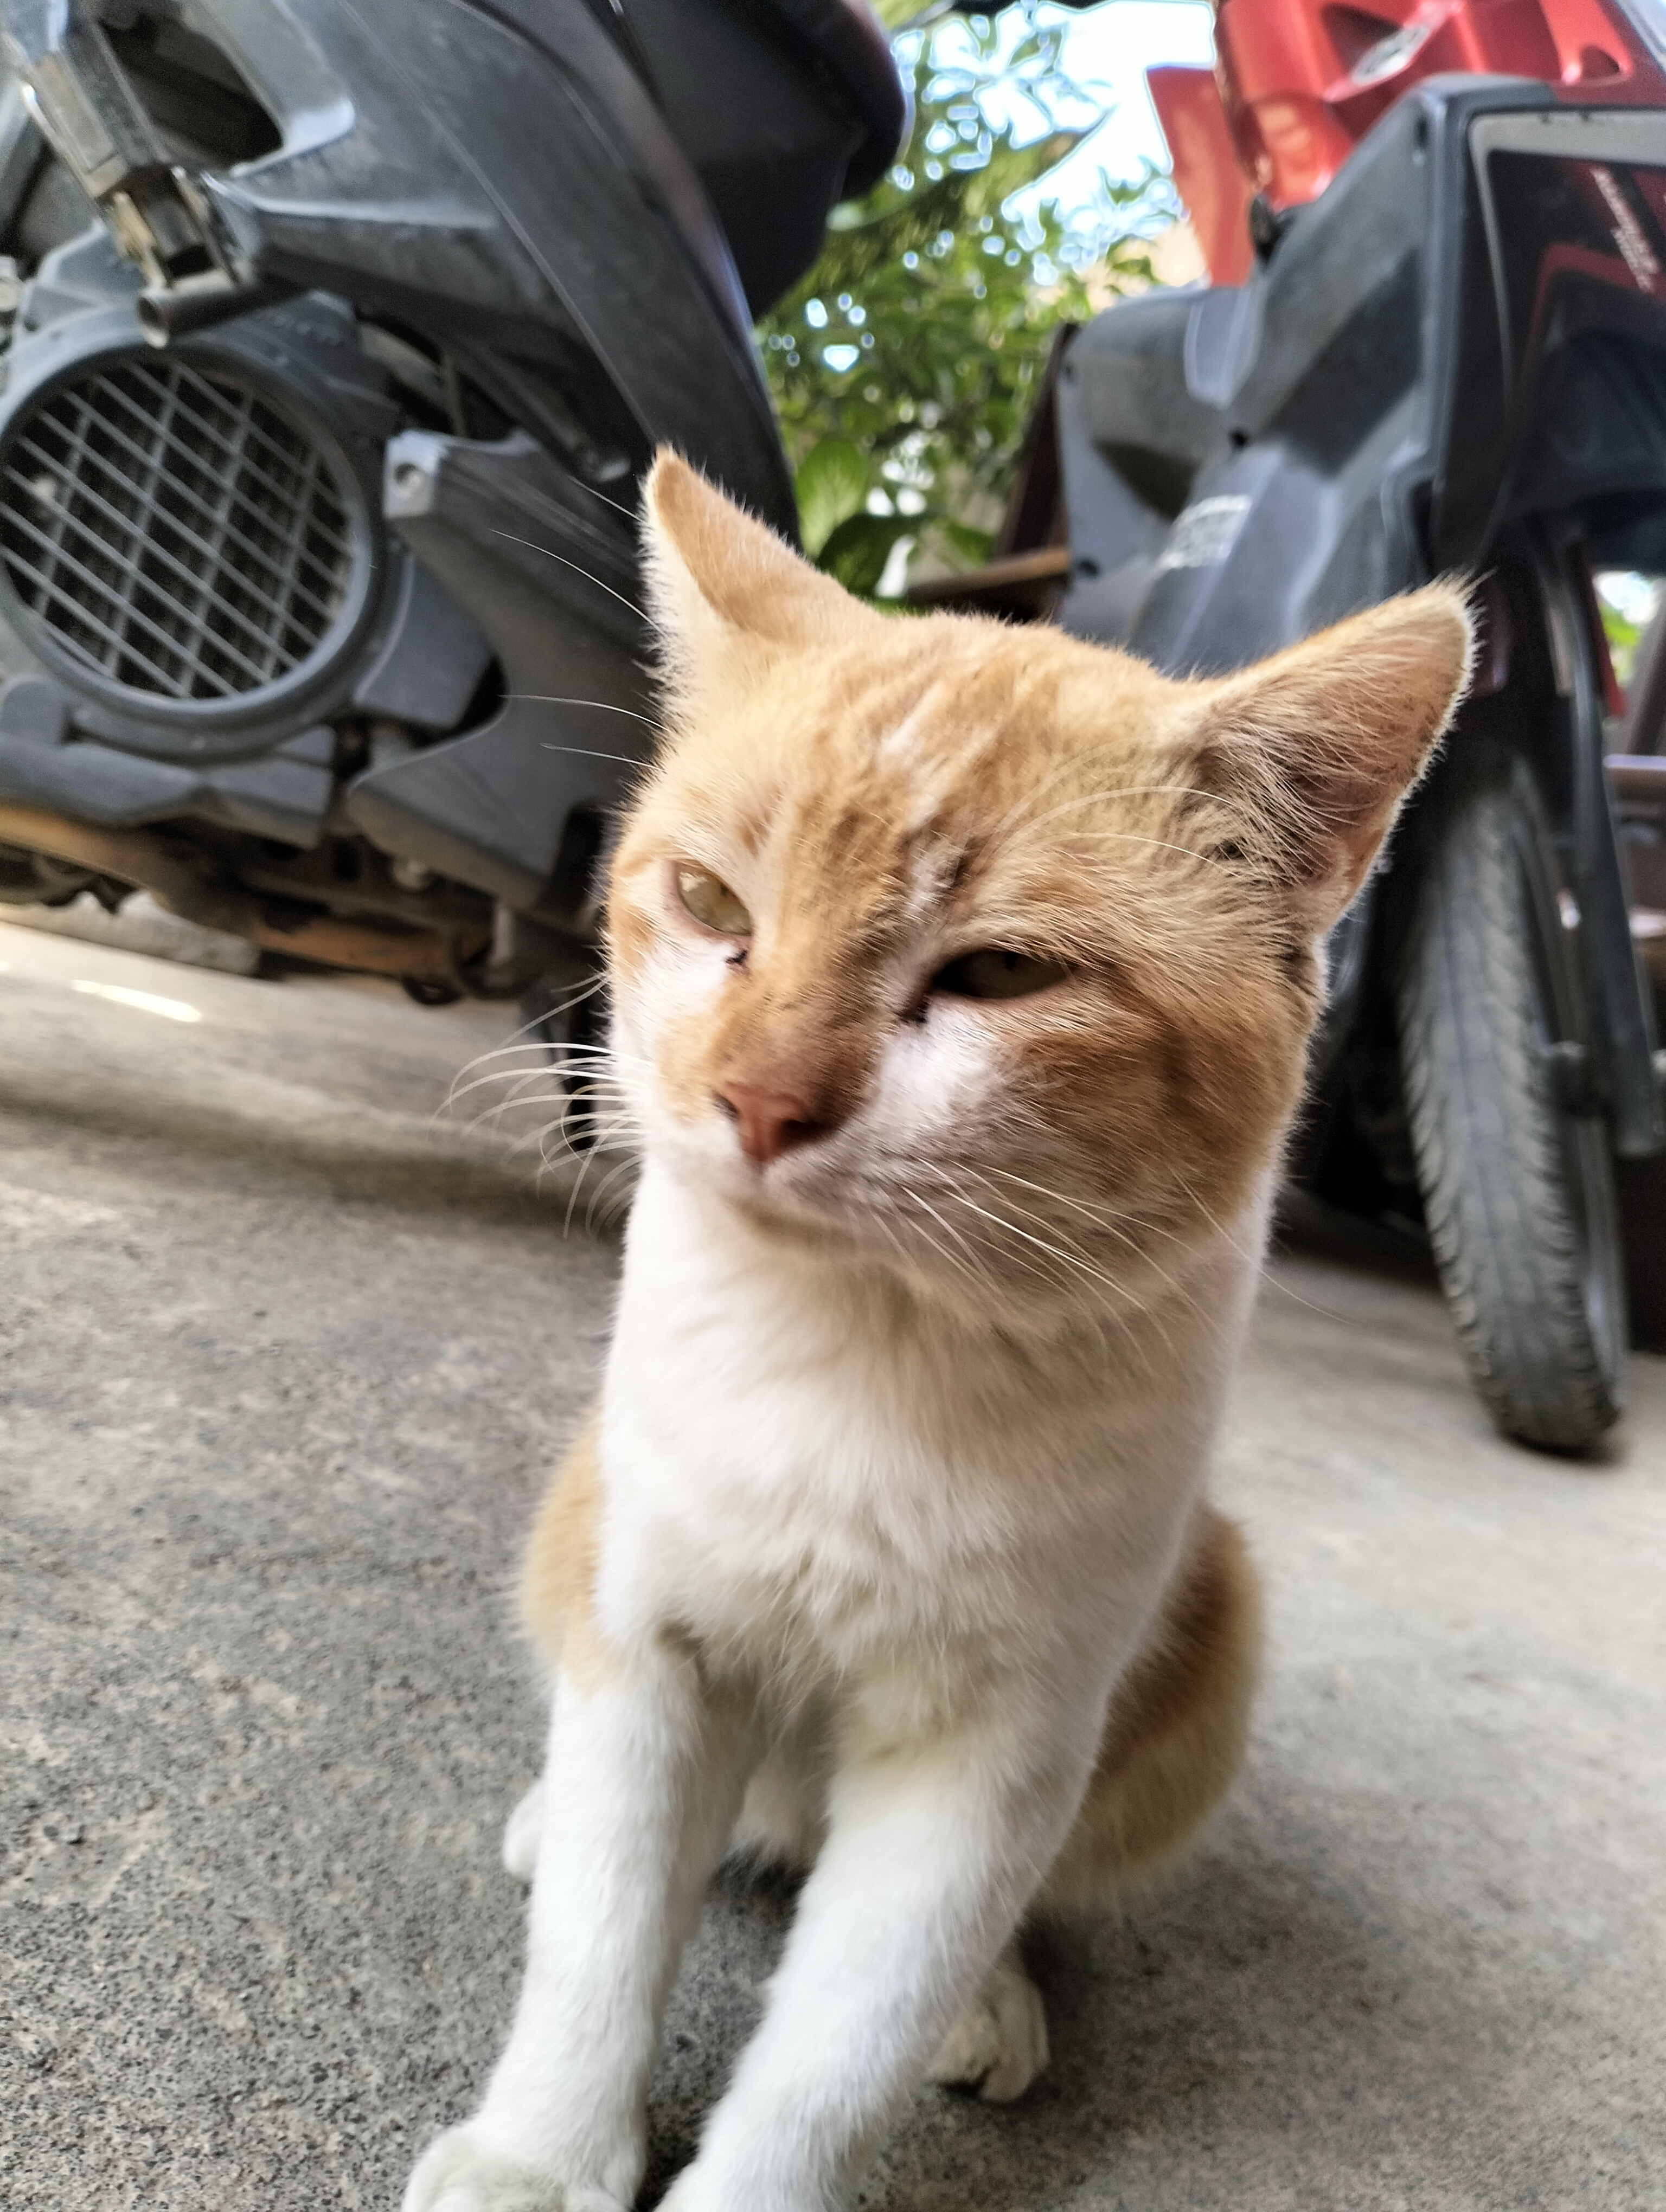oyen: (563, 427, 1540, 1460)
